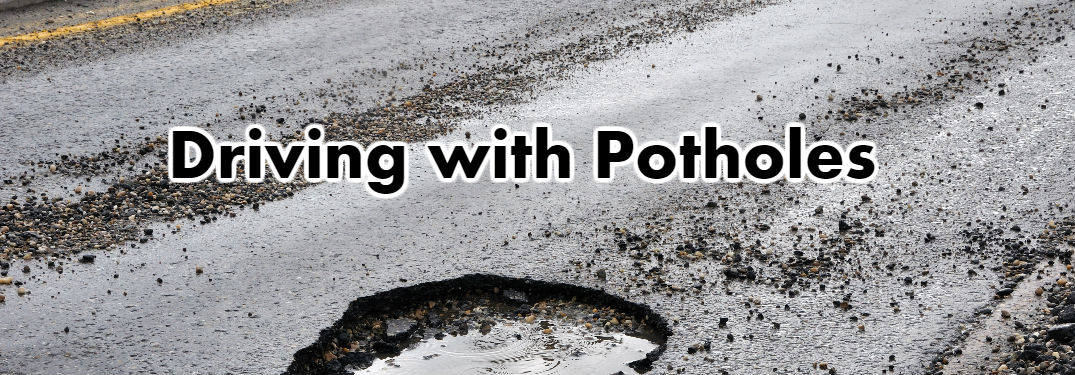pothole: (267, 270, 697, 375)
